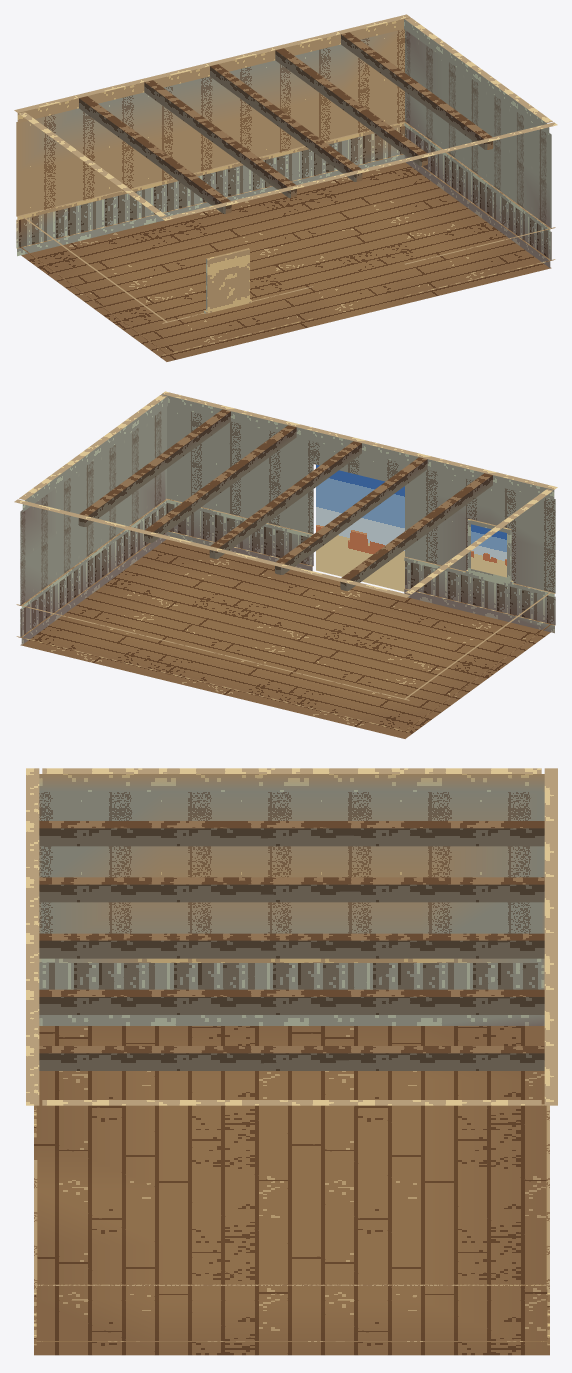
File: wtown.room__store.glb
3 renders of one model, top to bottom at view 1: azimuth 30°, elevation 25°; view 2: azimuth 150°, elevation 25°; view 3: azimuth 270°, elevation 25°, orthographic. The views are drawn at different scales.
Visible parts, largest first — view 1: kit_shell_walls, kit_shell_floor, kit_beams, kit_windows; view 2: kit_shell_walls, kit_shell_floor, kit_beams, kit_card_door_views, kit_card_views, kit_windows; view 3: kit_shell_floor, kit_shell_walls, kit_beams.
Boxes of the visible parts, bbox=[...] form: kit_shell_walls: bbox=[14, 14, 557, 355]; kit_shell_floor: bbox=[21, 162, 551, 361]; kit_beams: bbox=[79, 32, 493, 213]; kit_windows: bbox=[204, 248, 251, 313]; kit_shell_walls: bbox=[14, 391, 557, 732]; kit_shell_floor: bbox=[20, 539, 550, 738]; kit_beams: bbox=[78, 409, 492, 590]; kit_card_door_views: bbox=[316, 464, 404, 591]; kit_card_views: bbox=[471, 524, 506, 577]; kit_windows: bbox=[466, 519, 513, 584]; kit_shell_floor: bbox=[34, 1026, 549, 1355]; kit_shell_walls: bbox=[26, 768, 557, 1345]; kit_beams: bbox=[39, 821, 544, 1070].
Bounding box in the file's own units: 12 × 4.25 × 8.18.
7 materials, 7 textured.
